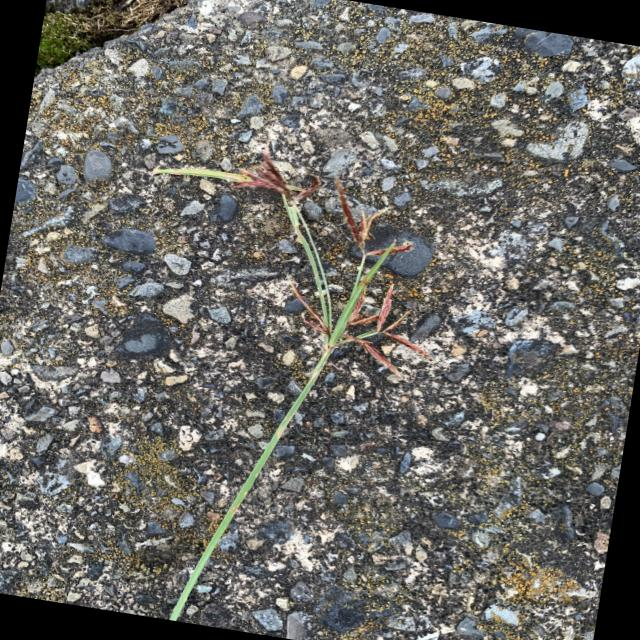cyperus: (191, 129, 483, 399)
